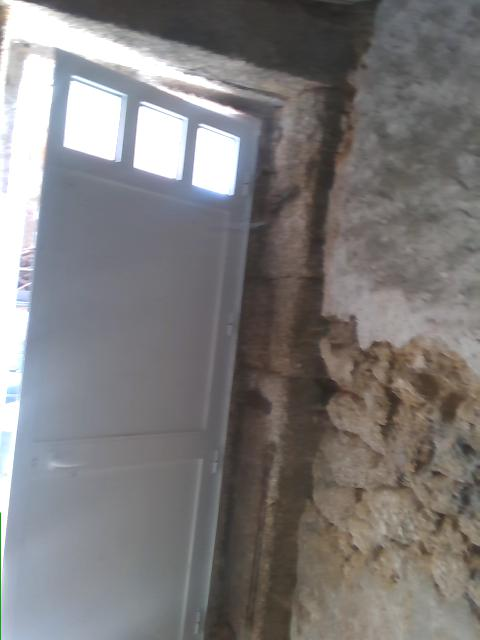closed_door: (4, 38, 264, 639)
